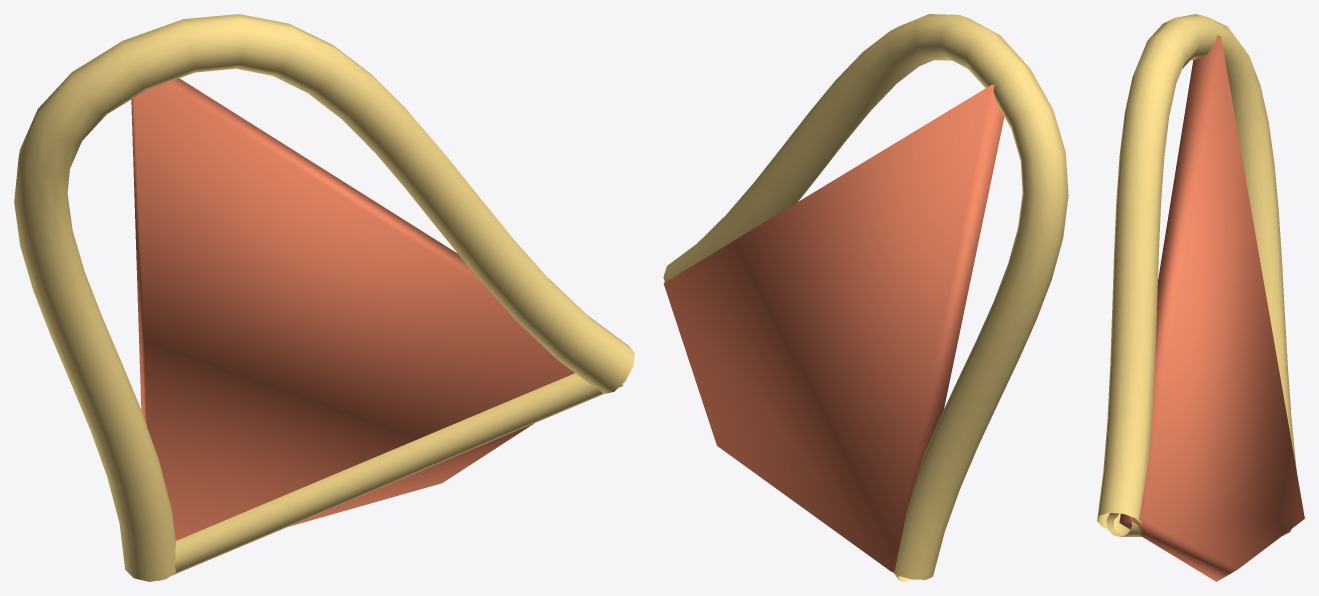
The model's file is dragon_wing_l.glb.
3 views of the same model, side by side, from view 1: azimuth 30°, elevation 25°; view 2: azimuth 150°, elevation 25°; view 3: azimuth 270°, elevation 25° (orthographic). The views are drawn at different scales.
Parts seen in each view (by area): view 1: dragon wing_l; view 2: dragon wing_l; view 3: dragon wing_l.
Boxes of the visible parts, x1,y1,x2,y2 form: dragon wing_l: (14,14,634,581); dragon wing_l: (663,14,1068,581); dragon wing_l: (1097,14,1304,581).
Bounding box in the file's own units: 0.7921 × 0.8581 × 0.321.
